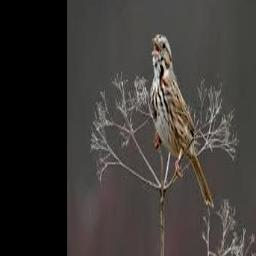Sparrow: (149, 33, 214, 209)
